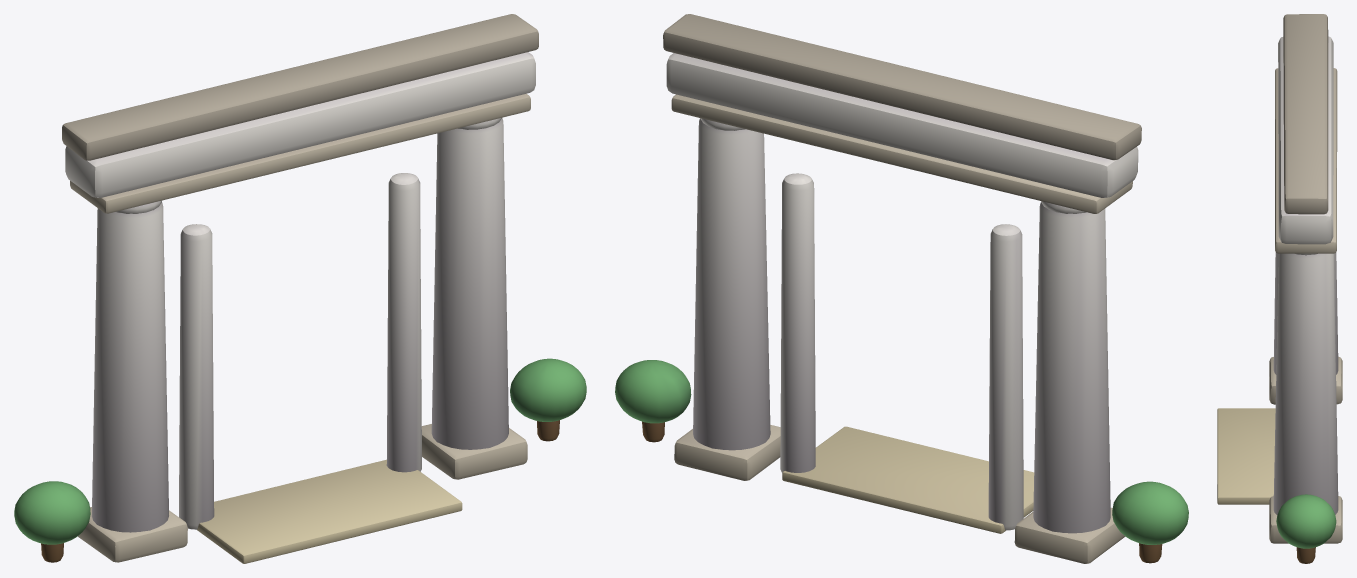
3 views of the same model, side by side, from view 1: azimuth 30°, elevation 25°; view 2: azimuth 150°, elevation 25°; view 3: azimuth 270°, elevation 25° (orthographic). The views are drawn at different scales.
Parts seen in each view (by area): view 1: gate_212410b8; view 2: gate_212410b8; view 3: gate_212410b8.
Boxes of the visible parts, x1,y1,x2,y2 form: gate_212410b8: [14, 14, 586, 563]; gate_212410b8: [615, 14, 1188, 563]; gate_212410b8: [1217, 14, 1342, 563].
Bounding box in the file's own units: 6.16 × 4.42 × 1.41.
